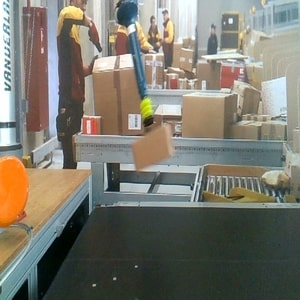box: (130, 125, 177, 173)
